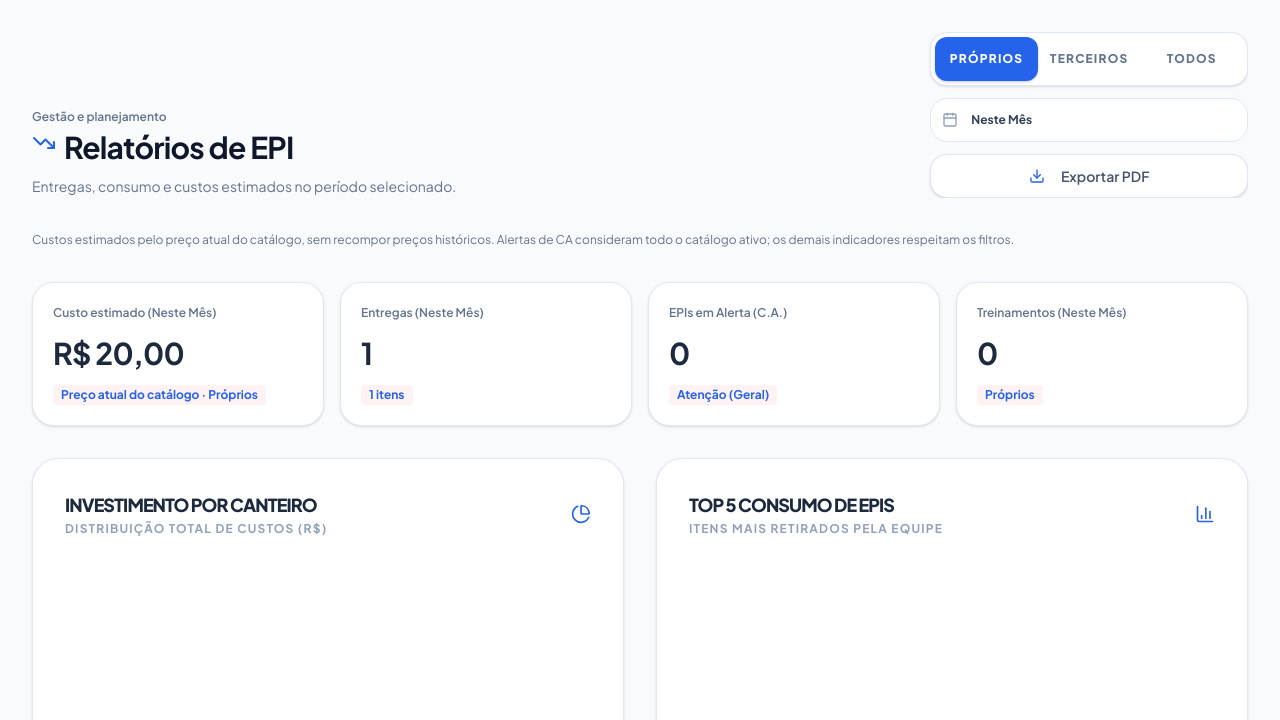
Test case: report actions › shows an actionable error if Exportar PDF generation throws
Click the button "Exportar PDF" at {"x": 1089, "y": 176}, box [930,154,1248,198]
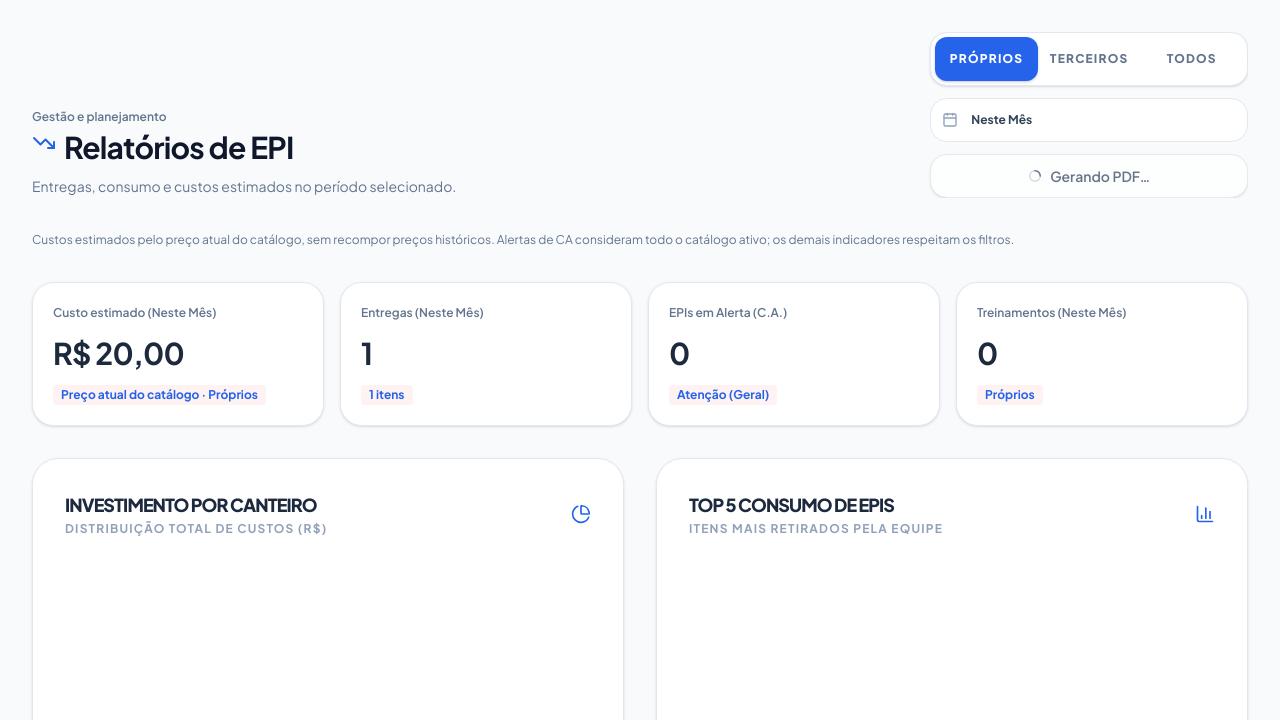
Check: the button named "Exportar PDF" has attribute aria-busy="true"
Click the button named "Exportar PDF" at {"x": 1089, "y": 176}, box [930,154,1248,198]
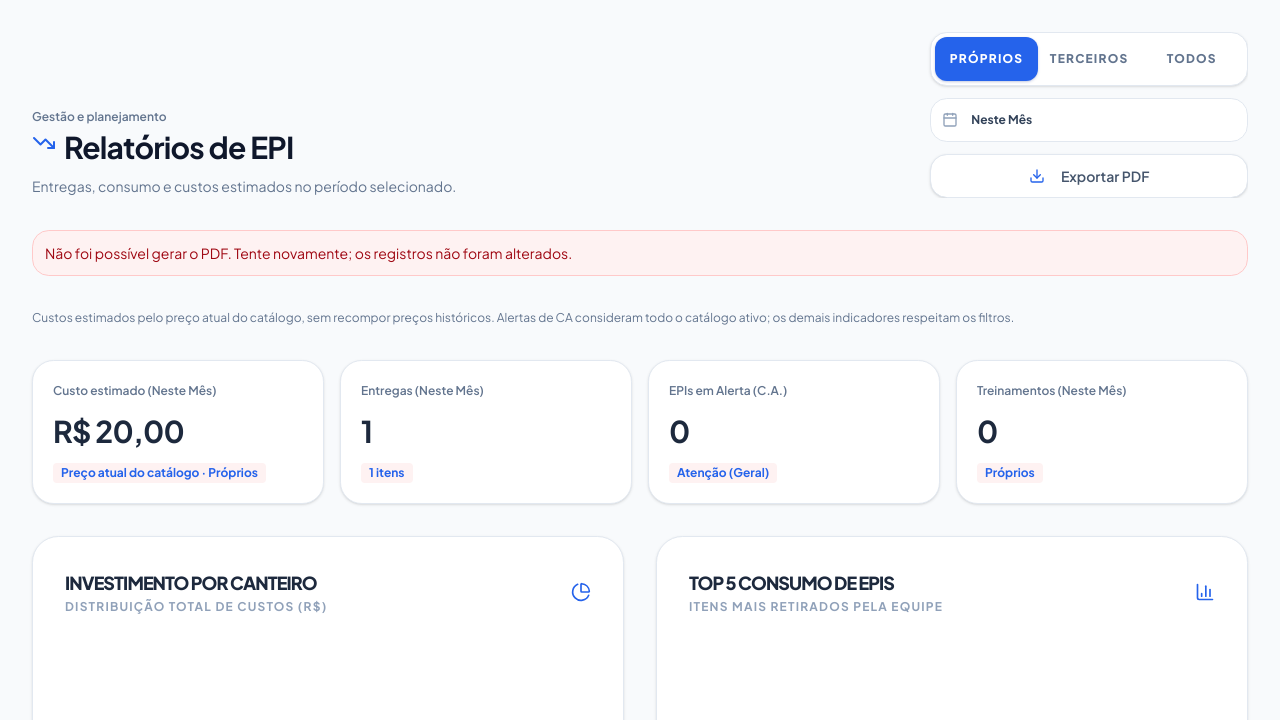
Check: the message shows "Não foi possível gerar o PDF", box [45,244,572,262]
Check: the number of messages is 1, box [32,230,1248,276]
Check: the button "Exportar PDF" is enabled, box [930,154,1248,198]
